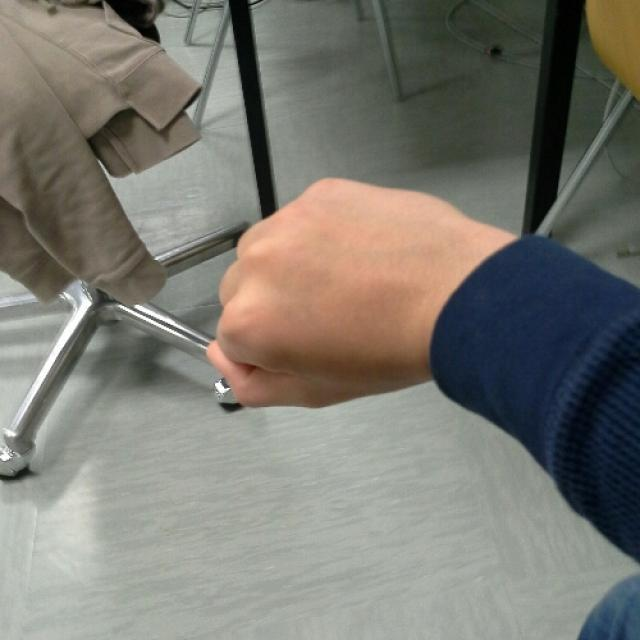rock: (207, 176, 454, 412)
